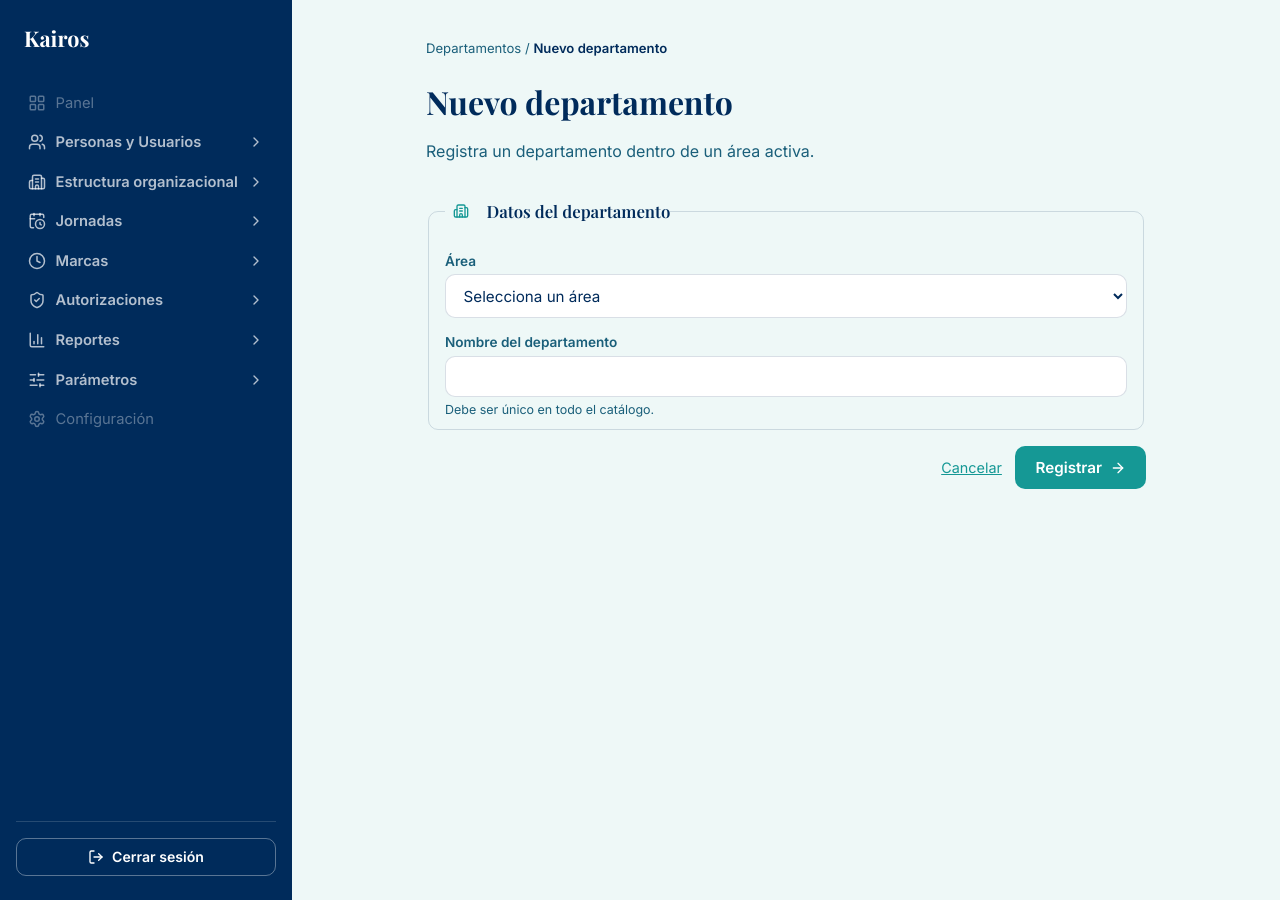
Test: AltaDepartamentoPage › muestra el mensaje de área inválida cuando el backend responde 422
Select "Comercial" in the dropdown labelled "Área" at (786, 296), box [445,274,1127,318]
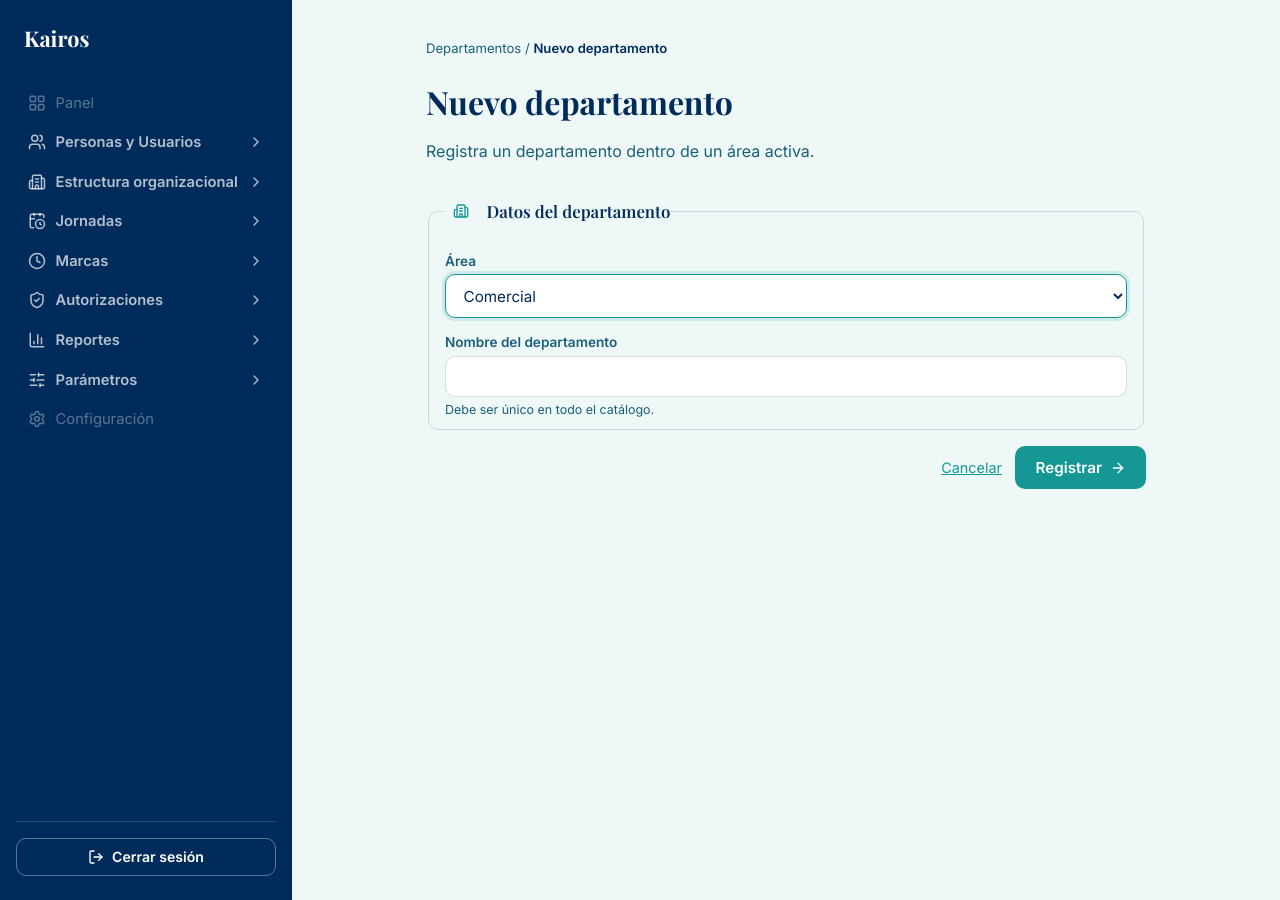
Type "Ventas" into the field labelled "Nombre del departamento" at (786, 376), box [445,356,1127,397]
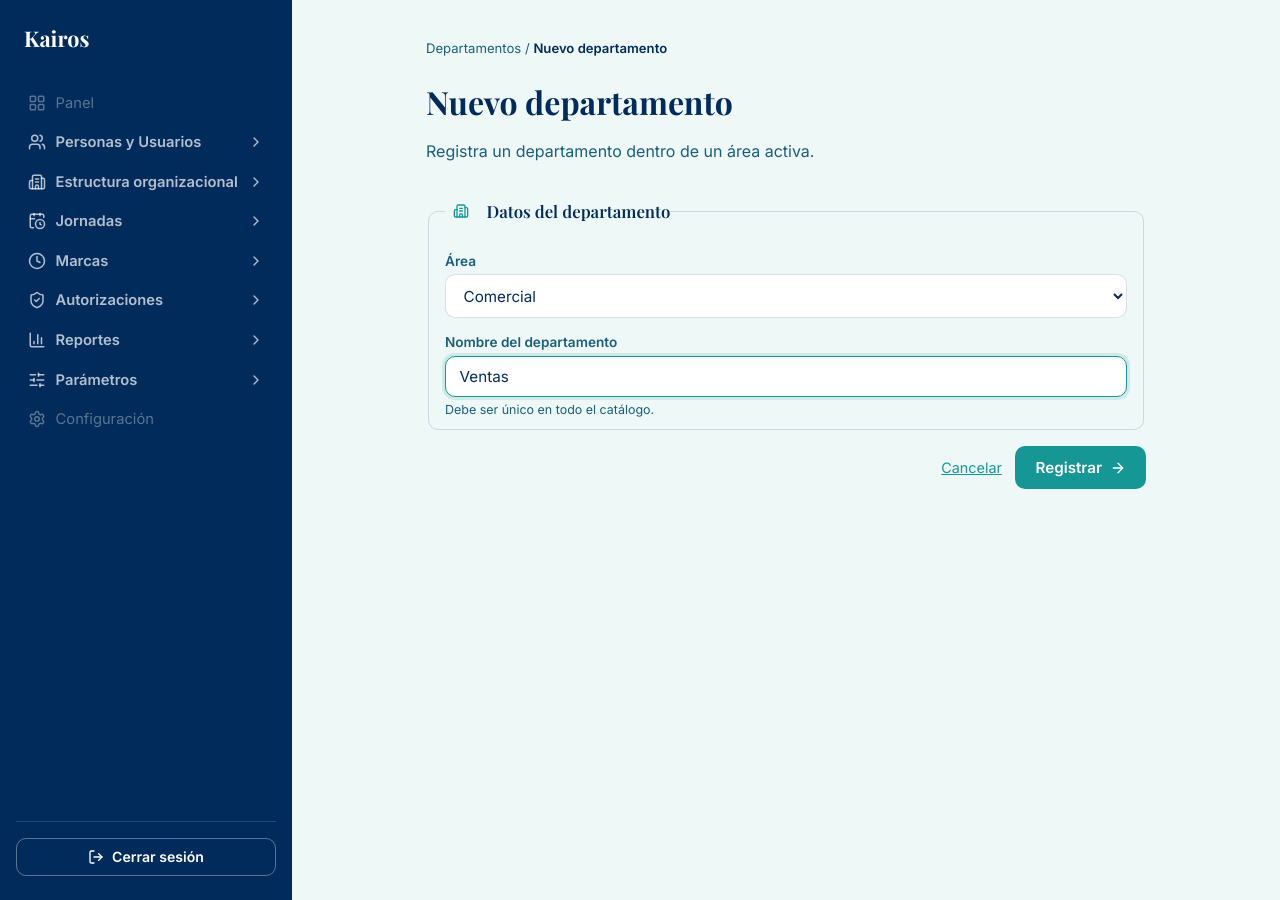
Click the button "Registrar" at (1081, 468), box [1016,446,1146,489]
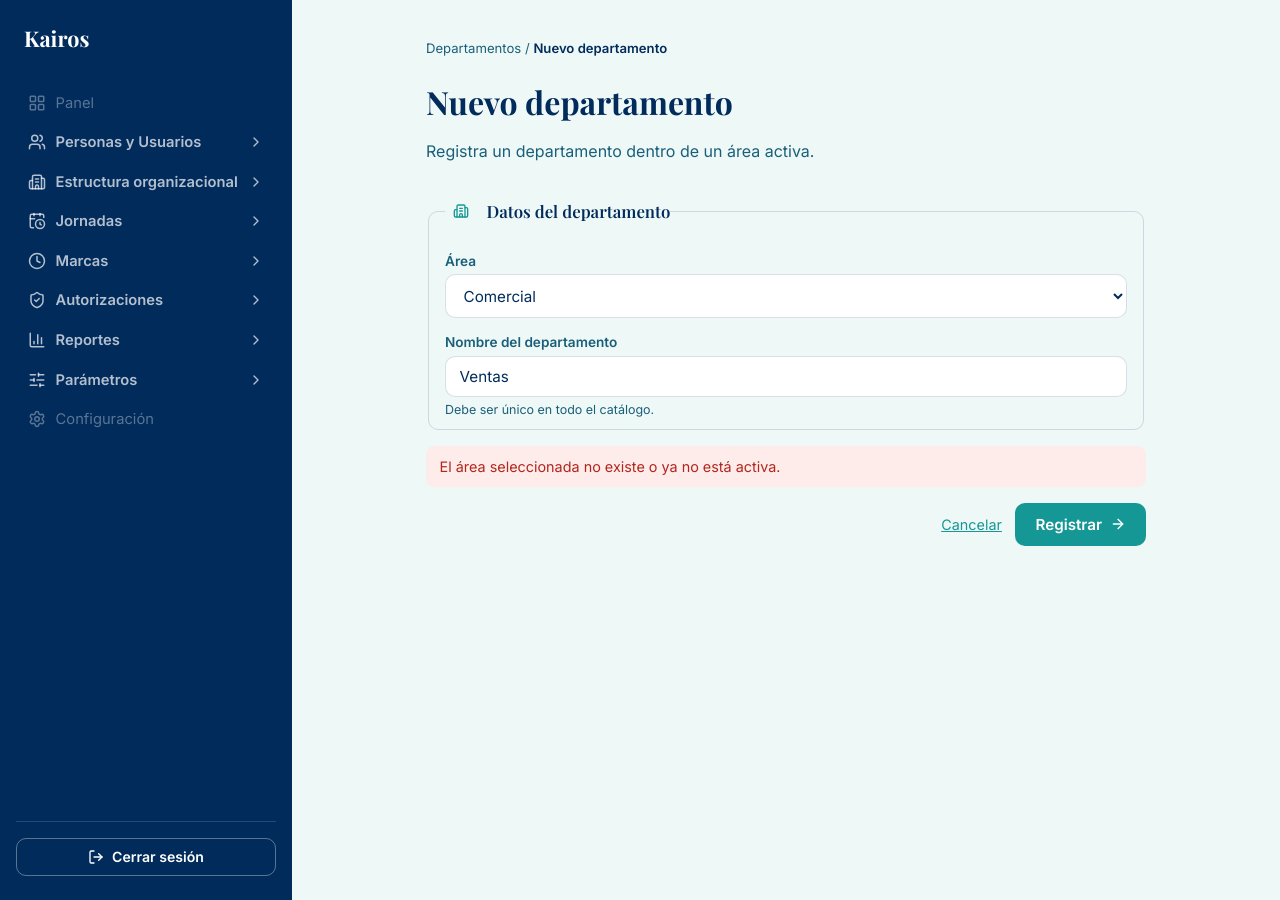
Expected: the text "El área seleccionada no existe o ya no está activa." is shown, [426,446,1146,487]
